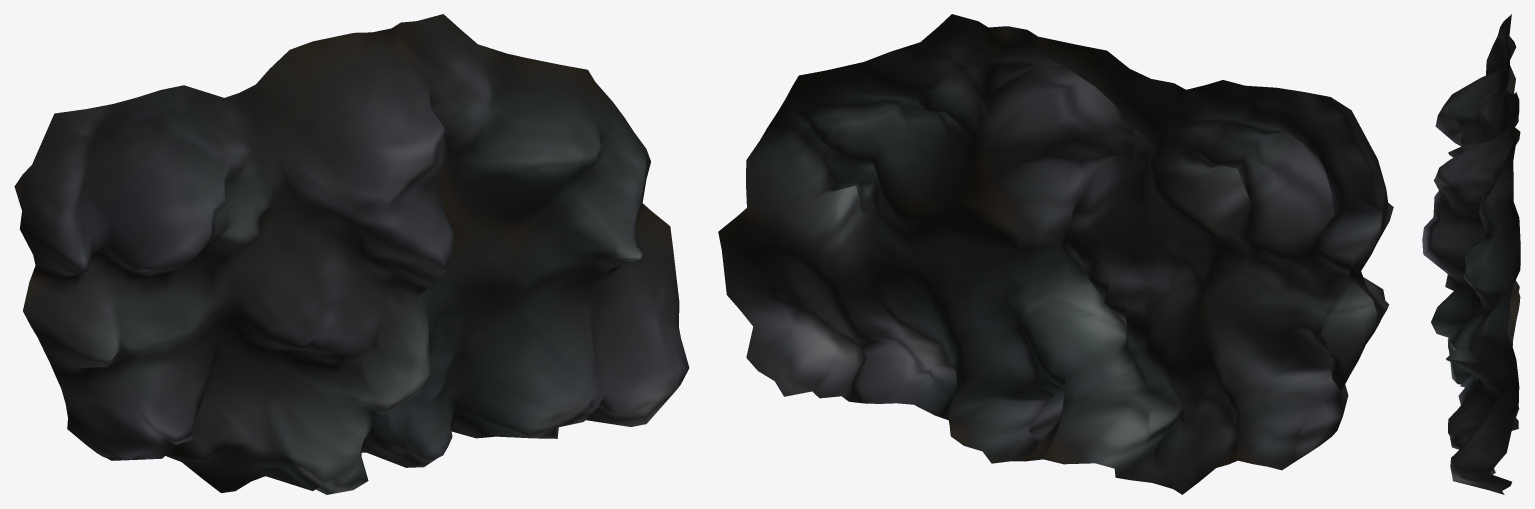
The model's file is Mussels07.fbx.
3 renders of one model, left to right at view 1: azimuth 30°, elevation 25°; view 2: azimuth 150°, elevation 25°; view 3: azimuth 270°, elevation 25°, orthographic. The views are drawn at different scales.
Visible parts, largest first — view 1: Mussels07; view 2: Mussels07; view 3: Mussels07.
Boxes of the visible parts, box(x1,y1,x2,y2) form: Mussels07: box(14, 14, 689, 494); Mussels07: box(718, 14, 1393, 494); Mussels07: box(1422, 14, 1520, 494).
Size of the model in its own units: 52.28 by 33.05 by 9.88.
